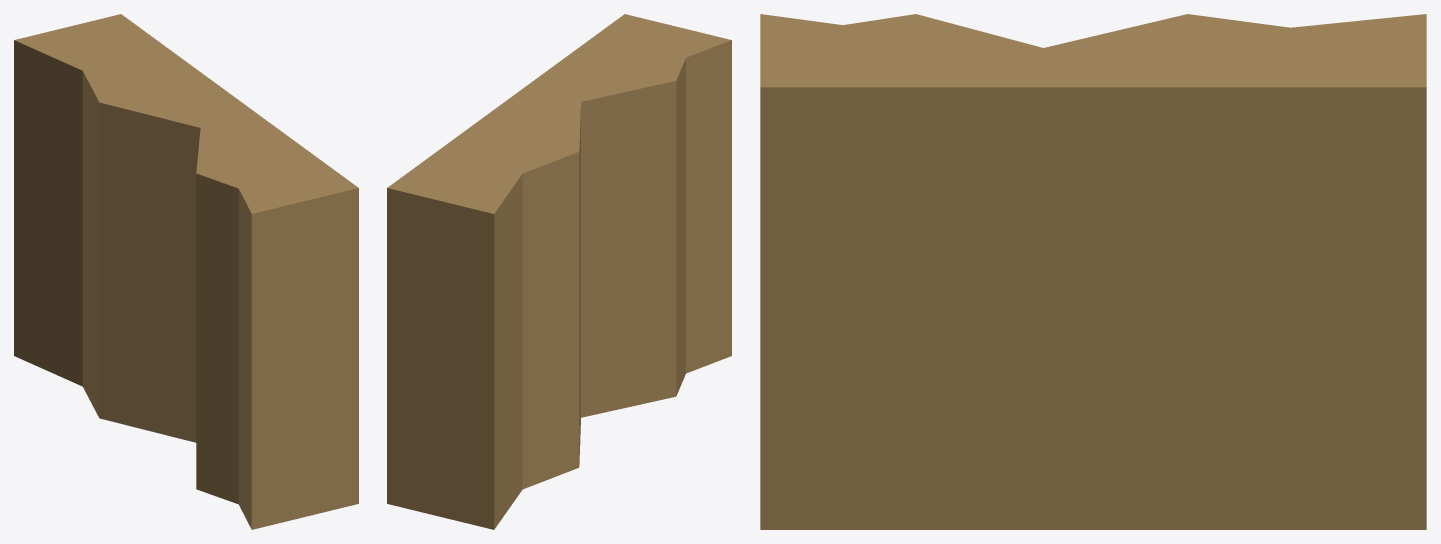
Rendered from naturePack_121.obj.
The picture shows the model from 3 angles, left to right: view 1: azimuth 30°, elevation 25°; view 2: azimuth 150°, elevation 25°; view 3: azimuth 270°, elevation 25°; orthographic projection. The views are drawn at different scales.
Visible parts, largest first — view 1: Mesh1_Brown_Cliff_Model; view 2: Mesh1_Brown_Cliff_Model; view 3: Mesh1_Brown_Cliff_Model.
Part boxes in pixels (x1,y1,x2,y2): Mesh1_Brown_Cliff_Model: [14, 14, 358, 529]; Mesh1_Brown_Cliff_Model: [387, 14, 731, 529]; Mesh1_Brown_Cliff_Model: [760, 14, 1426, 529].
Bounding box in the file's own units: 0.78 × 2.2 × 3.
